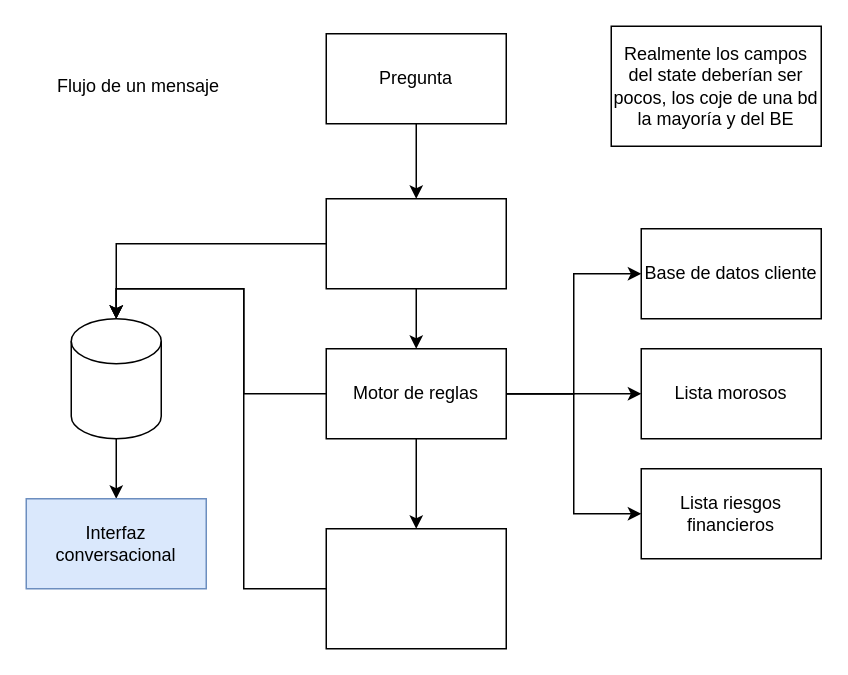
Image size: 848x675. Some labels were removed from this diagram. Here are the shapes that lost their labels. From the top down, the centre of each, then its label:
the point at 415,243: LLM actualiza state
the point at 115,378: trazas
the point at 415,588: LLM propone respuesta con: - state - respuesta motor
